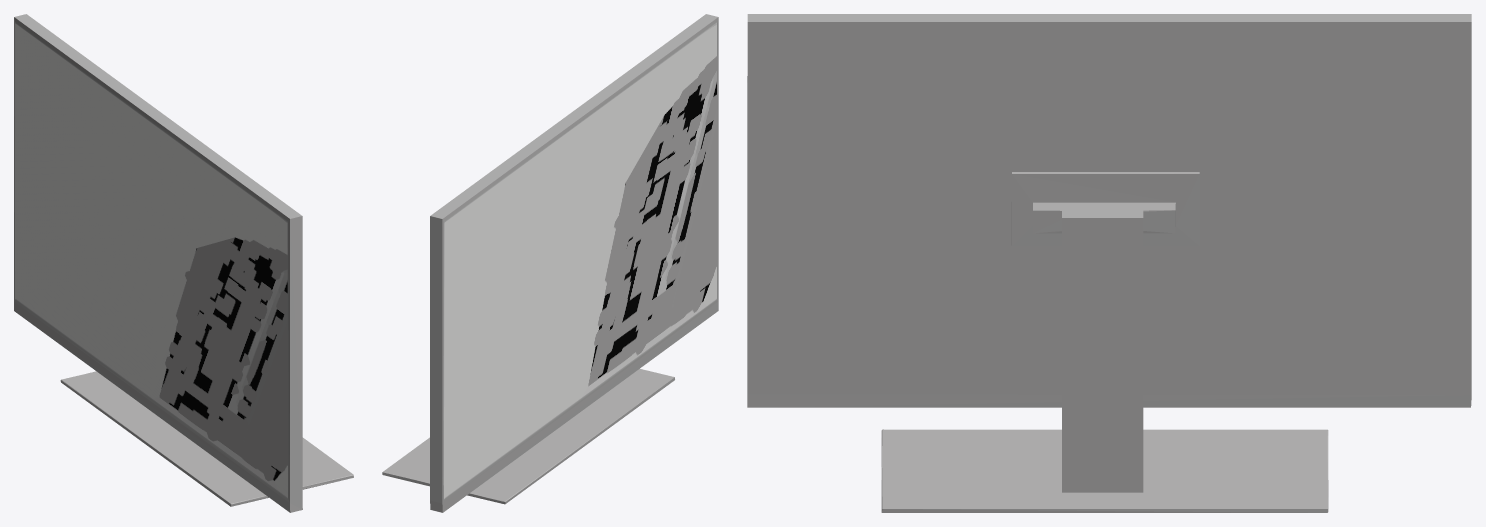
3 renders of one model, left to right at view 1: azimuth 30°, elevation 25°; view 2: azimuth 150°, elevation 25°; view 3: azimuth 270°, elevation 25°, orthographic. The views are drawn at different scales.
Parts seen in each view (by area): view 1: 281911_23_05_24_13_23_19; view 2: 281911_23_05_24_13_23_19; view 3: 281911_23_05_24_13_23_19.
Boxes of the visible parts, x1,y1,x2,y2 form: 281911_23_05_24_13_23_19: (14,14,353,512); 281911_23_05_24_13_23_19: (382,14,718,512); 281911_23_05_24_13_23_19: (747,14,1471,512).
Bounding box in the file's own units: 8 × 20.12 × 31.06.
1 material, 1 textured.
